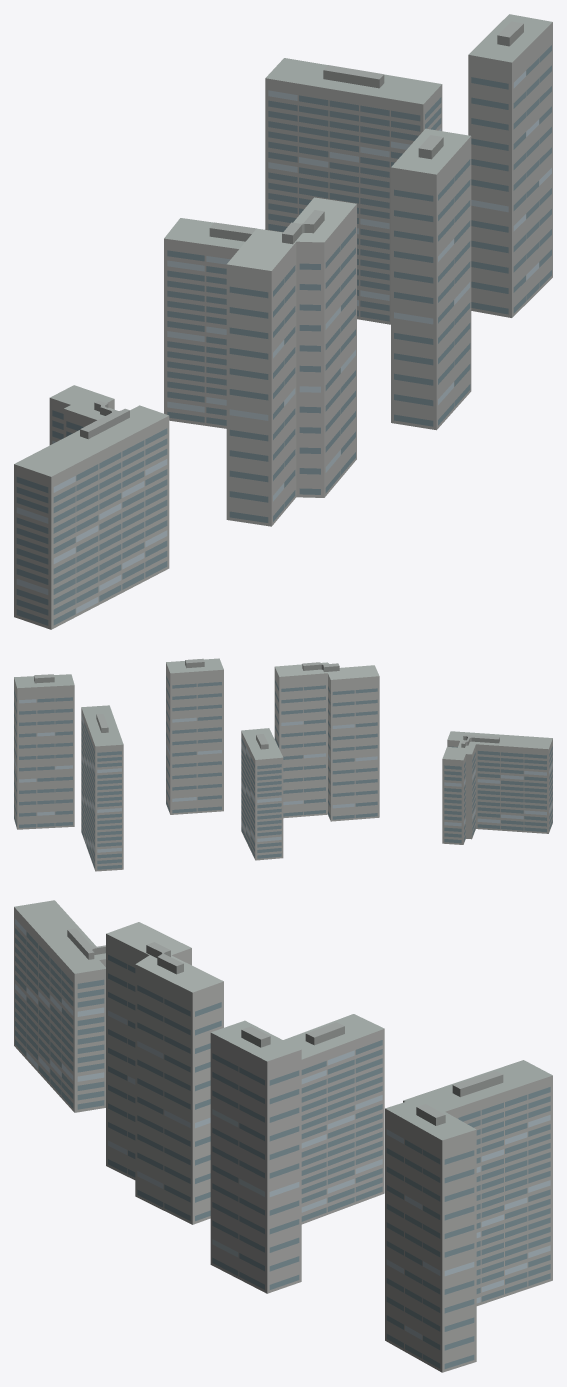
The model's file is apt-a12171101.glb.
3 renders of one model, top to bottom at view 1: azimuth 30°, elevation 25°; view 2: azimuth 150°, elevation 25°; view 3: azimuth 270°, elevation 25°, orthographic. The views are drawn at different scales.
Visible parts, largest first — view 1: apt-a12171101; view 2: apt-a12171101; view 3: apt-a12171101.
Part boxes in pixels (x1,y1,x2,y2): apt-a12171101: (14, 14, 552, 629); apt-a12171101: (14, 658, 552, 871); apt-a12171101: (14, 900, 552, 1372).
Size of the model in its own units: 211 by 71 by 144.
